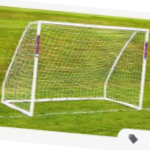goals: (1, 18, 150, 117)
